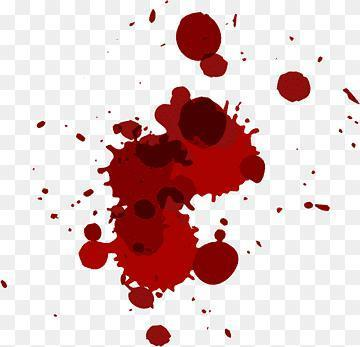Fire: (77, 85, 265, 308), (175, 11, 228, 77), (276, 71, 311, 102), (145, 324, 171, 346)
